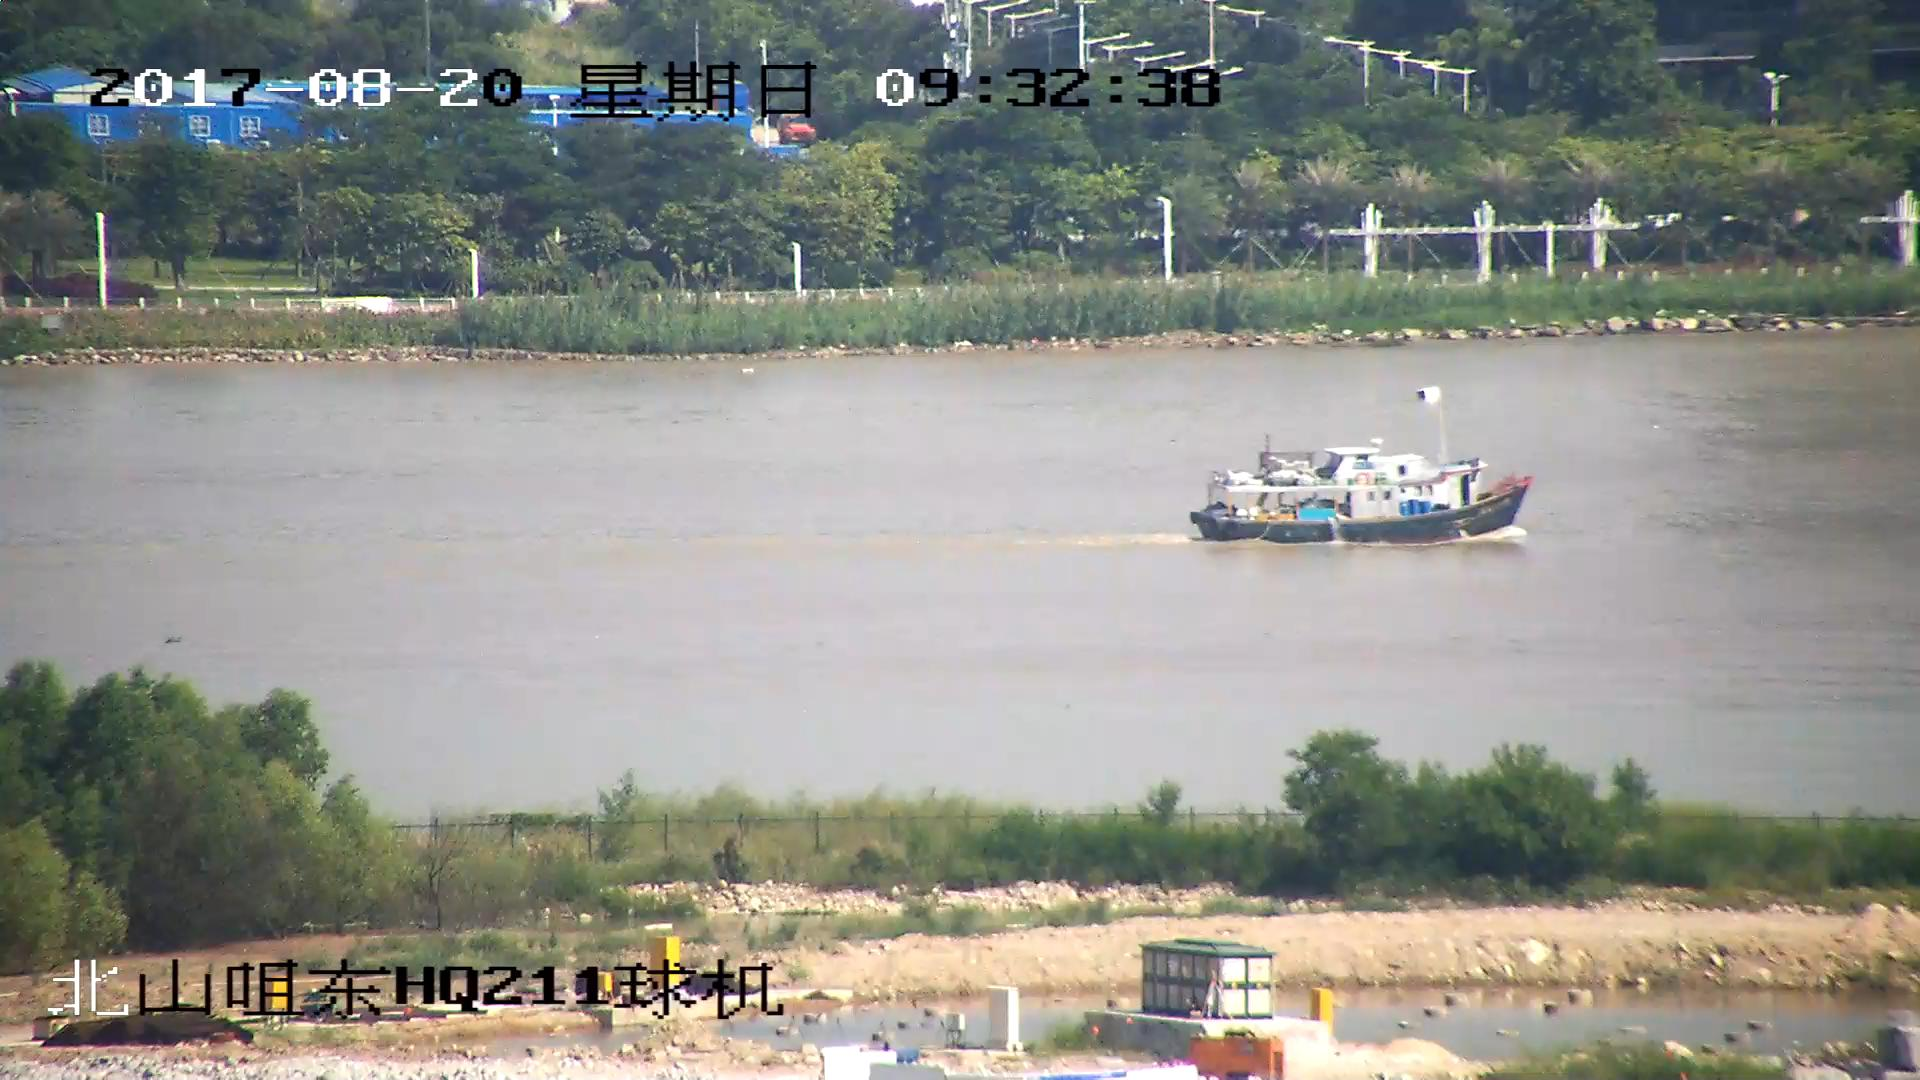fishing boat: (1188, 436, 1532, 544)
